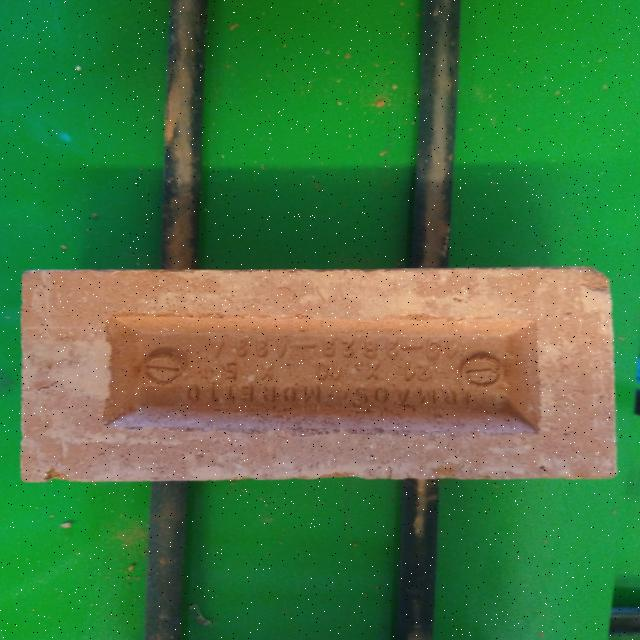bricks: (19, 268, 612, 486)
